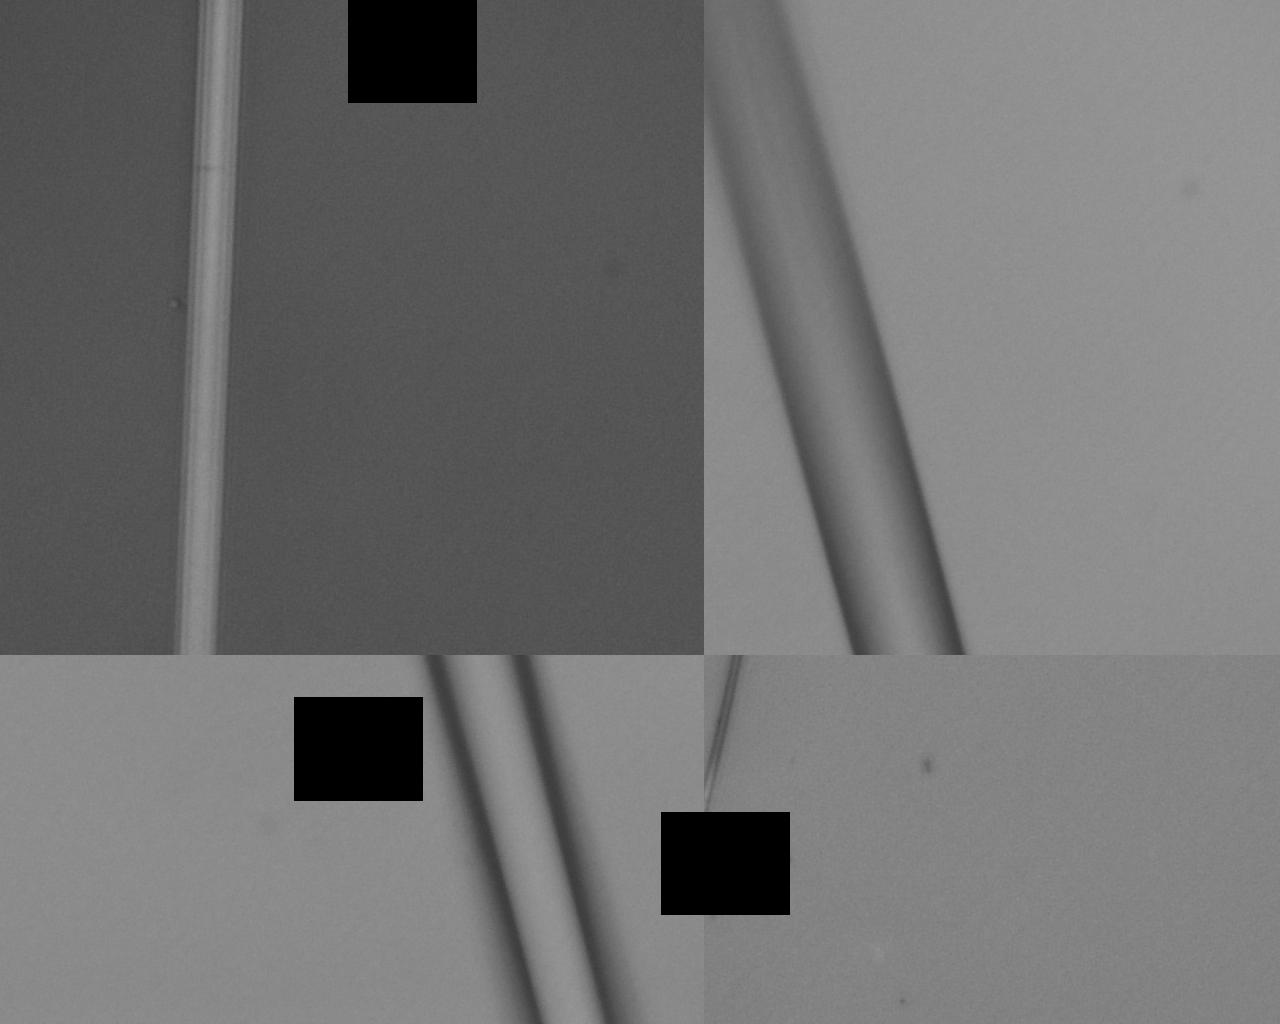fiber: (462, 0, 1098, 1022)
